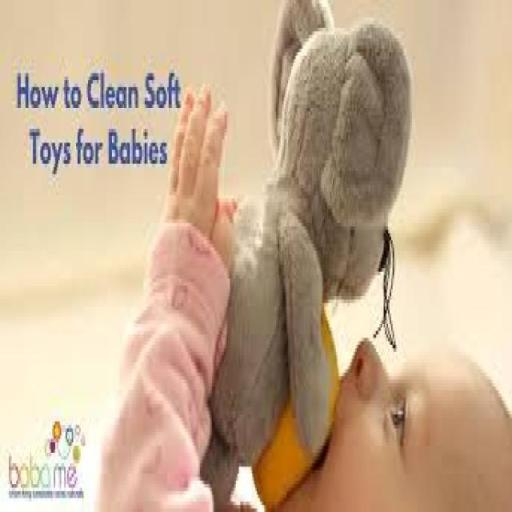baby: (98, 88, 234, 511)
